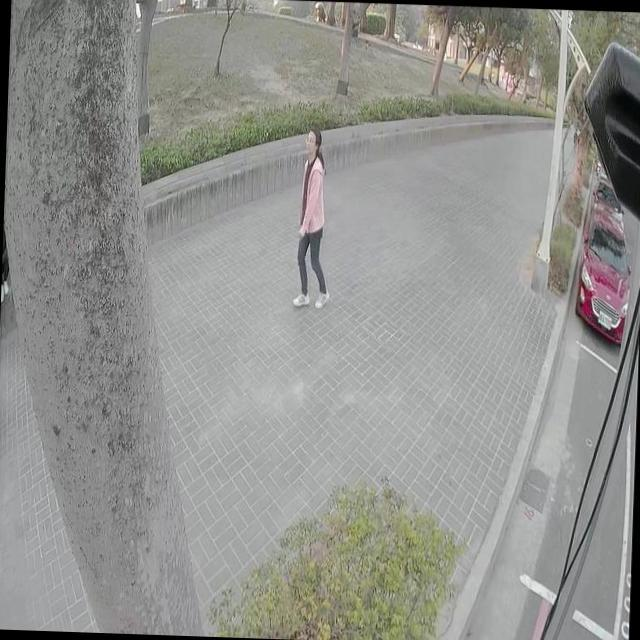person: (292, 125, 334, 310)
